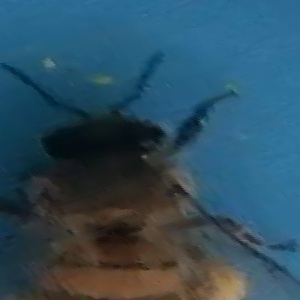bee: (5, 82, 277, 300)
